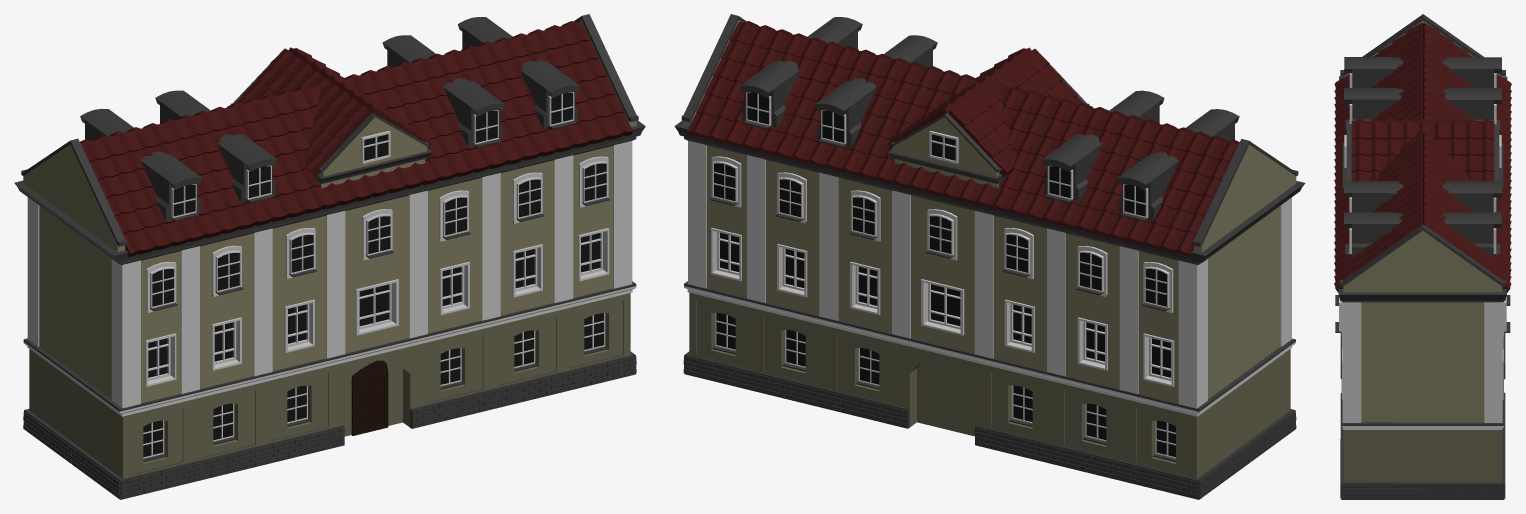
3 renders of one model, left to right at view 1: azimuth 30°, elevation 25°; view 2: azimuth 150°, elevation 25°; view 3: azimuth 270°, elevation 25°, orthographic. The views are drawn at different scales.
Parts seen in each view (by area): view 1: Building1_Large_Building1_Large; view 2: Building1_Large_Building1_Large; view 3: Building1_Large_Building1_Large.
Boxes of the visible parts, bbox=[...] form: Building1_Large_Building1_Large: bbox=[14, 14, 645, 499]; Building1_Large_Building1_Large: bbox=[674, 14, 1305, 499]; Building1_Large_Building1_Large: bbox=[1334, 14, 1511, 499].
Size of the model in its own units: 7.99 by 4.67 by 2.75.
